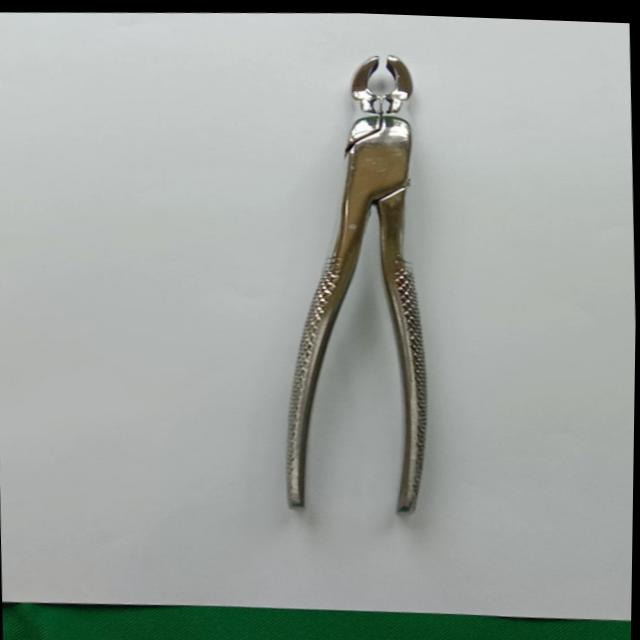BayonetForcep: (254, 43, 463, 518)
